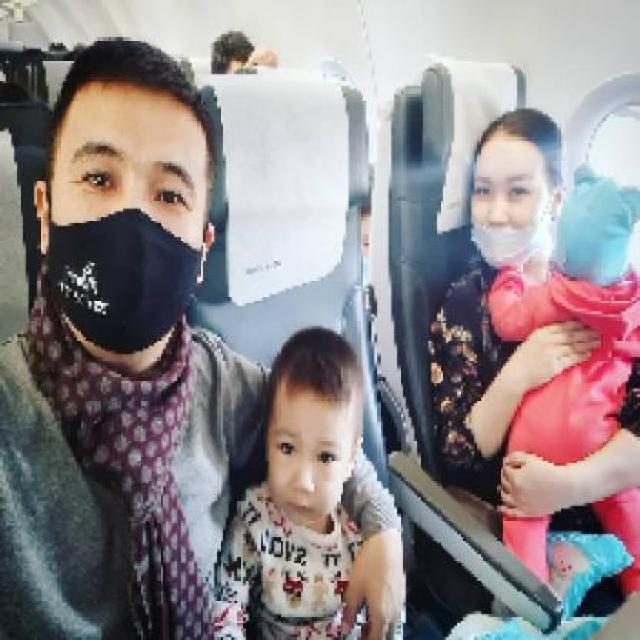child: (482, 177, 638, 597), (208, 323, 368, 637)
